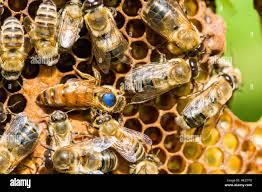Queen-Bee: (35, 80, 127, 116)
worker-bee: (129, 0, 215, 56), (176, 69, 244, 132), (76, 0, 128, 65), (93, 112, 155, 161), (125, 56, 200, 96), (43, 145, 125, 172), (1, 10, 29, 89), (31, 0, 61, 69)
